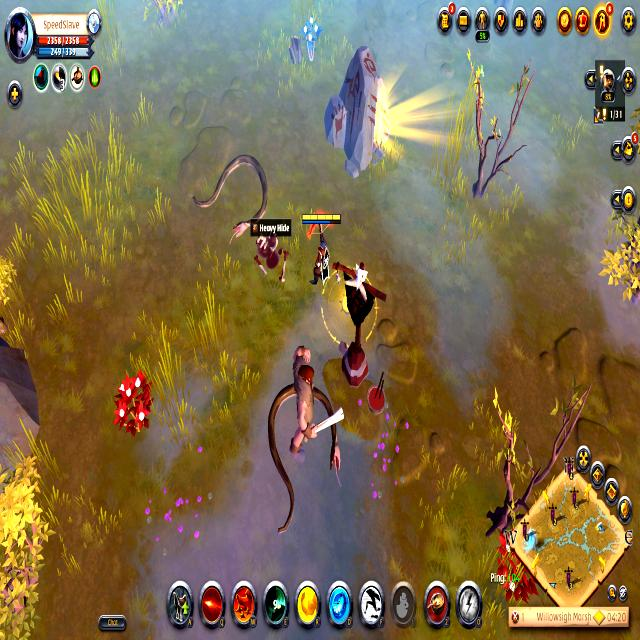hide: (488, 523, 538, 607), (110, 368, 157, 444), (297, 8, 323, 69)
ore: (282, 331, 343, 479)
